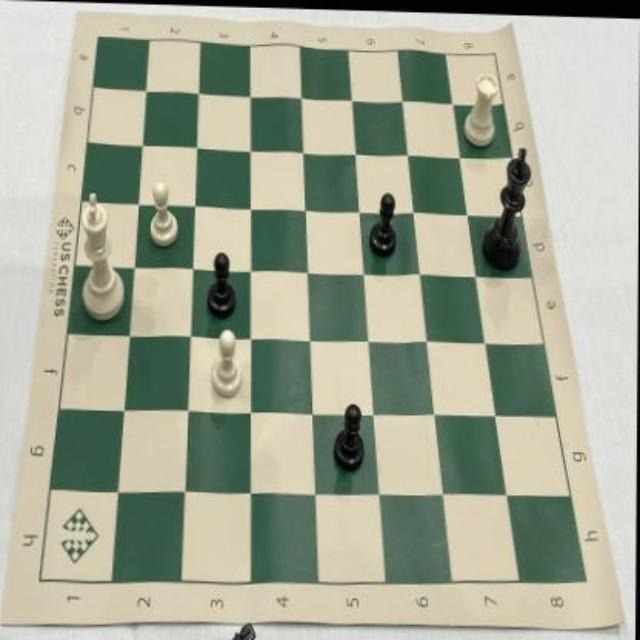black-king: (480, 137, 535, 269)
black-pawn: (332, 390, 370, 474), (204, 241, 240, 321), (367, 183, 399, 258)
white-king: (76, 187, 128, 327)
white-pawn: (207, 325, 247, 403), (145, 176, 181, 248)
white-rook: (462, 64, 502, 150)
